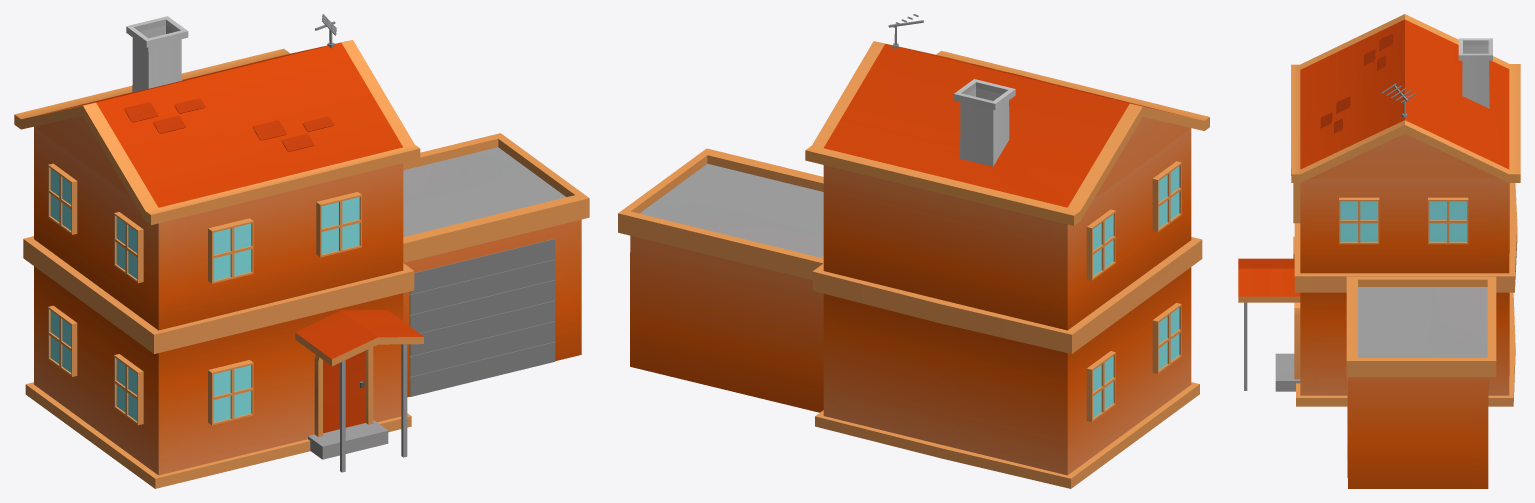
The picture shows the model from 3 angles, left to right: view 1: azimuth 30°, elevation 25°; view 2: azimuth 150°, elevation 25°; view 3: azimuth 270°, elevation 25°; orthographic projection. The views are drawn at different scales.
Visible parts, largest first — view 1: EV_4; view 2: EV_4; view 3: EV_4.
Boxes of the visible parts, x1,y1,x2,y2 form: EV_4: (14,14,589,488); EV_4: (618,14,1209,488); EV_4: (1238,14,1520,488).
Bounding box in the file's own units: 943 × 707 × 581.
